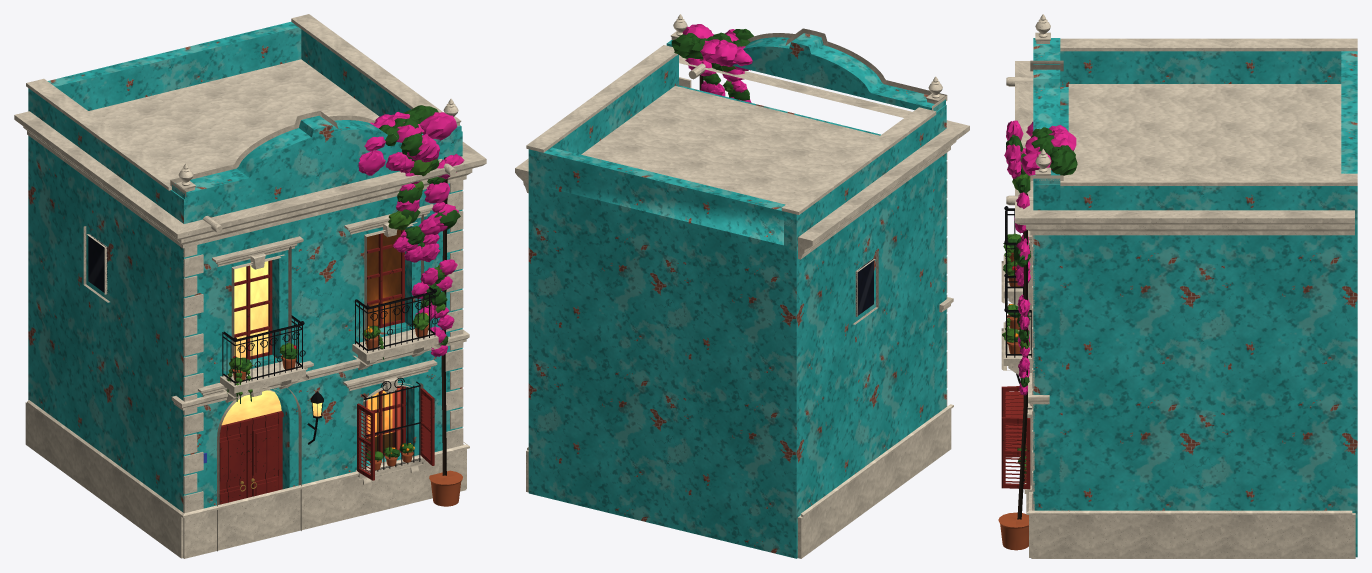
The model's file is w3_bg_casa_b.glb.
3 views of the same model, side by side, from view 1: azimuth 30°, elevation 25°; view 2: azimuth 150°, elevation 25°; view 3: azimuth 270°, elevation 25° (orthographic). The views are drawn at different scales.
Visible parts, largest first — view 1: w3_bg_casa_b; view 2: w3_bg_casa_b; view 3: w3_bg_casa_b.
Boxes of the visible parts, box(x1,y1,x2,y2) form: w3_bg_casa_b: box(14, 14, 486, 558); w3_bg_casa_b: box(515, 14, 969, 558); w3_bg_casa_b: box(998, 14, 1357, 558).
Bounding box in the file's own units: 6.88 × 8.49 × 6.65.
Materials: 5 (5 with a texture image).
